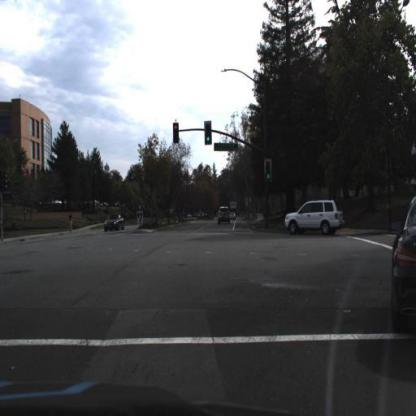biker: (64, 210, 79, 240), (67, 211, 77, 235)
car: (390, 196, 416, 333), (284, 198, 348, 239), (103, 211, 128, 234), (106, 211, 125, 234), (217, 203, 232, 226)
trafficLight: (203, 120, 213, 148), (265, 159, 274, 186)
trafficLight-RedLeft: (173, 122, 181, 147)
truck: (230, 200, 242, 212)
